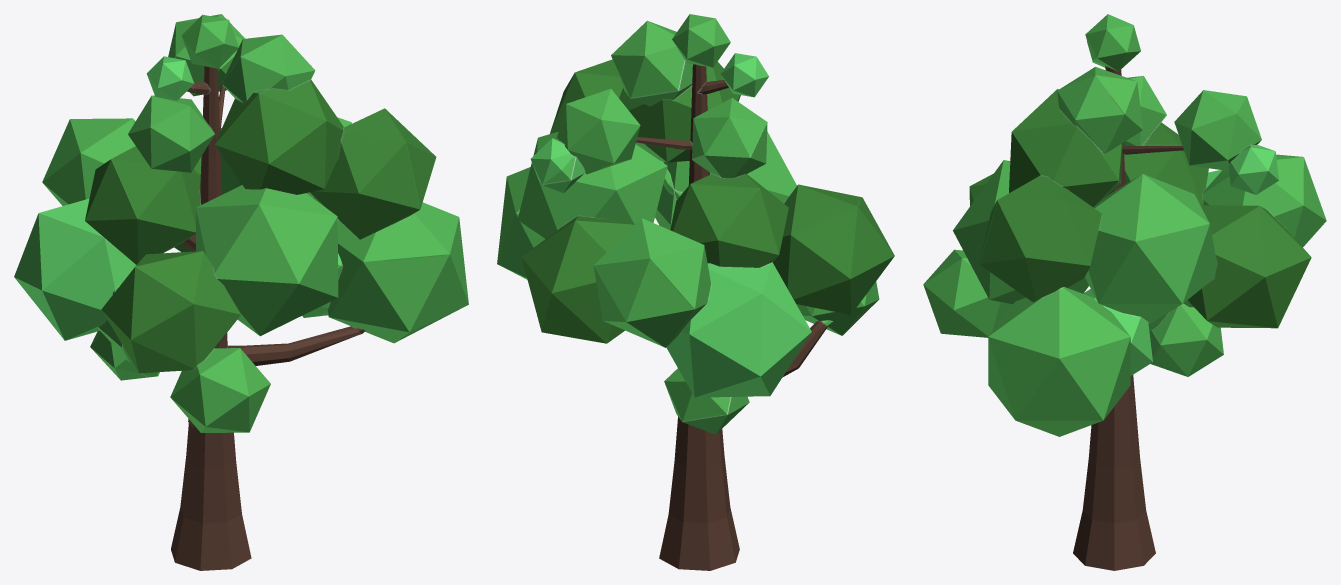
The model's file is Eiche.fbx.
3 renders of one model, left to right at view 1: azimuth 30°, elevation 25°; view 2: azimuth 150°, elevation 25°; view 3: azimuth 270°, elevation 25°, orthographic.
Parts seen in each view (by area): view 1: Circle.002; view 2: Circle.002; view 3: Circle.002.
Boxes of the visible parts, x1,y1,x2,y2 form: Circle.002: (14, 14, 468, 570); Circle.002: (497, 14, 894, 570); Circle.002: (923, 14, 1326, 570).
Bounding box in the file's own units: 997 × 1415 × 970.
